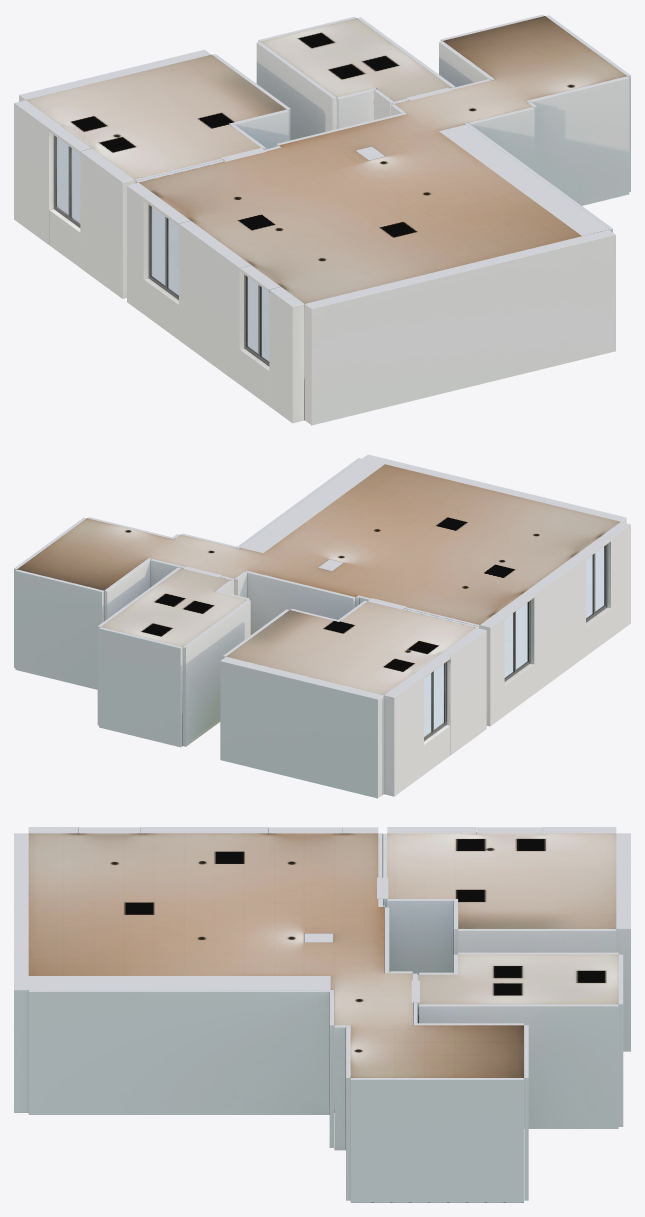
The model's file is flat_baked_table2.glb.
The picture shows the model from 3 angles, top to bottom: view 1: azimuth 30°, elevation 25°; view 2: azimuth 150°, elevation 25°; view 3: azimuth 270°, elevation 25°; orthographic projection. The views are drawn at different scales.
Parts seen in each view (by area): view 1: zapec_telo_0, zapec_stropy_3, zapec_zdi_1, sklo_okno_67, sklo_okno_111, sklo_okno_74; view 2: zapec_telo_0, zapec_stropy_3, zapec_zdi_1, sklo_okno_67, sklo_okno_111, sklo_okno_74; view 3: zapec_telo_0, zapec_stropy_3, zapec_zdi_1.
Part boxes in pixels (x1,y1,x2,y2): zapec_telo_0: (14,14,630,425); zapec_stropy_3: (26,16,626,303); zapec_zdi_1: (34,41,608,420); sklo_okno_67: (151,207,178,295); sklo_okno_111: (57,137,80,223); sklo_okno_74: (247,277,269,361); zapec_telo_0: (14,454,630,798); zapec_stropy_3: (17,464,620,694); zapec_zdi_1: (17,458,606,745); sklo_okno_67: (504,603,527,677); sklo_okno_111: (424,664,443,736); sklo_okno_74: (586,546,604,618); zapec_telo_0: (14,827,630,1202); zapec_stropy_3: (28,833,618,1077); zapec_zdi_1: (28,832,476,1112).
Bounding box in the file's own units: 11.92 × 2.71 × 12.3.
Materials: 10 (8 with a texture image).
